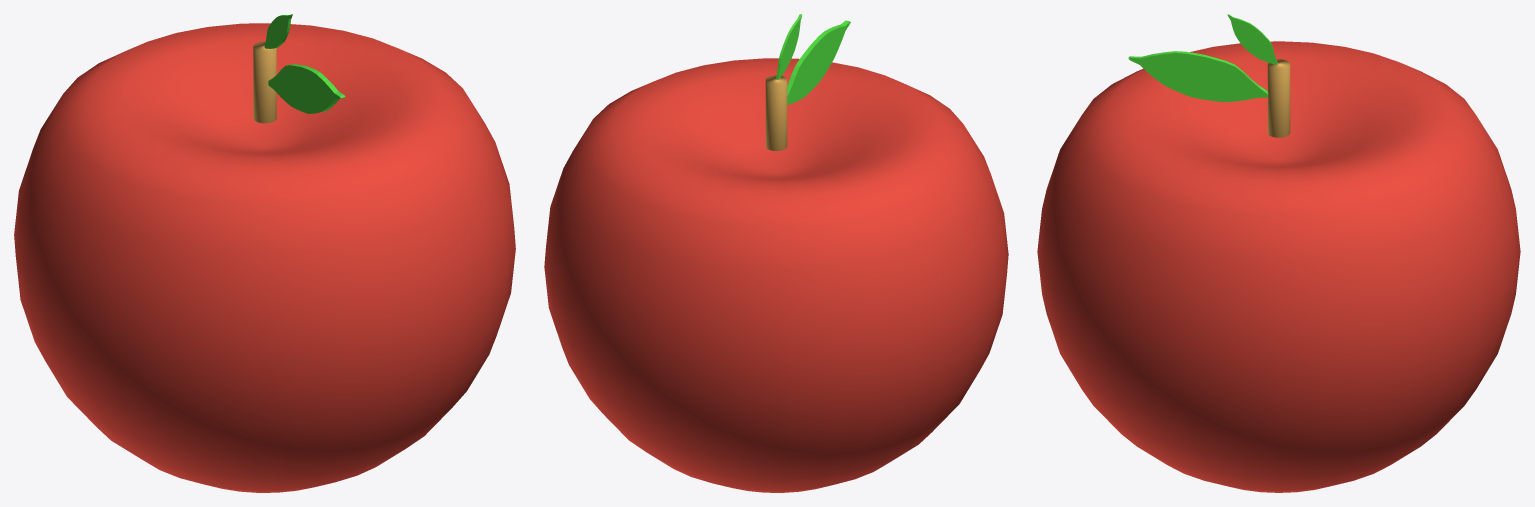
File: blend_apple.fbx
3 renders of one model, left to right at view 1: azimuth 30°, elevation 25°; view 2: azimuth 150°, elevation 25°; view 3: azimuth 270°, elevation 25°, orthographic. The views are drawn at different scales.
Visible parts, largest first — view 1: Apel, Cube, pucuk, Cube.001; view 2: Apel, Cube, pucuk, Cube.001; view 3: Apel, Cube, pucuk, Cube.001.
Boxes of the visible parts, x1,y1,x2,y2 form: Apel: (14, 23, 515, 492); Cube: (268, 64, 345, 113); pucuk: (253, 41, 276, 123); Cube.001: (264, 14, 292, 48); Apel: (544, 58, 1008, 492); Cube: (787, 20, 850, 105); pucuk: (765, 75, 787, 150); Cube.001: (776, 14, 801, 79); Apel: (1037, 41, 1520, 492); Cube: (1128, 51, 1267, 102); pucuk: (1267, 59, 1290, 137); Cube.001: (1227, 14, 1277, 64).
Bounding box in the file's own units: 2 × 2.04 × 2.
